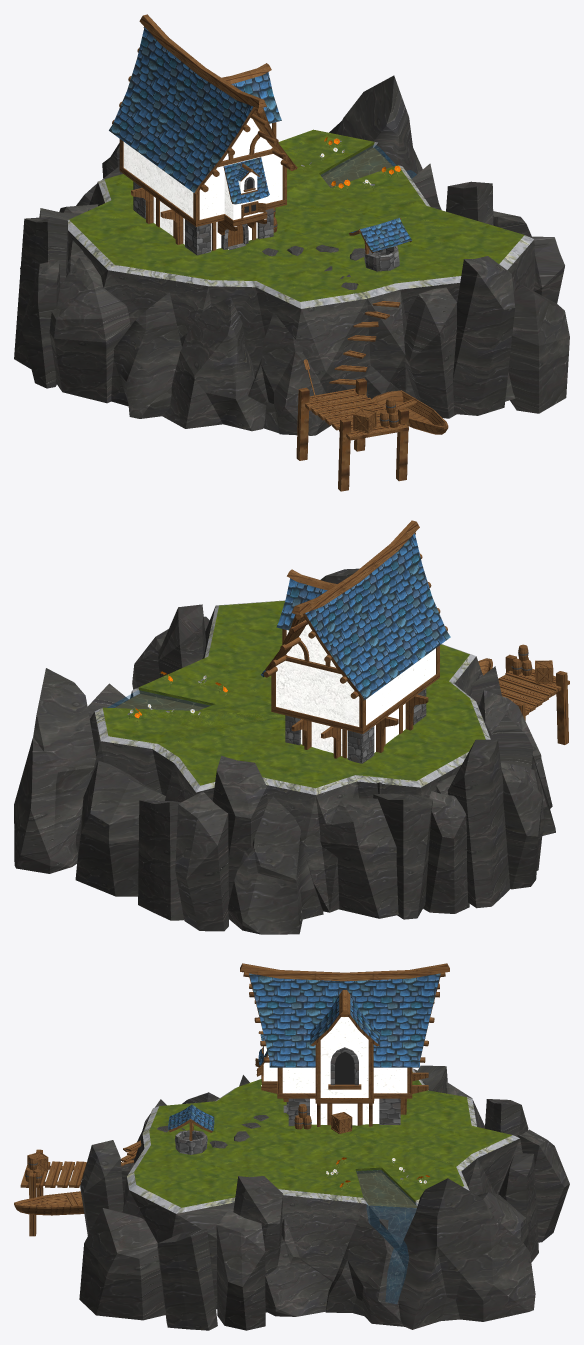
The model's file is island.glb.
3 views of the same model, one above another, from view 1: azimuth 30°, elevation 25°; view 2: azimuth 150°, elevation 25°; view 3: azimuth 270°, elevation 25° (orthographic). The views are drawn at different scales.
Parts seen in each view (by area): view 1: polySurface32, polySurface10, well, polySurface1, pCube22, pCube18, pCube16, pCube19, polySurface31; view 2: polySurface32, polySurface10, polySurface1, pCube18; view 3: polySurface32, polySurface10, polySurface1, well, pCube22.
Boxes of the visible parts, x1=… form: polySurface32: x1=14, y1=75, x2=569, y2=435; polySurface10: x1=109, y1=14, x2=297, y2=255; well: x1=349, y1=217, x2=412, y2=271; polySurface1: x1=321, y1=145, x2=416, y2=187; pCube22: x1=372, y1=390, x2=448, y2=434; pCube18: x1=338, y1=418, x2=351, y2=491; pCube16: x1=296, y1=387, x2=309, y2=460; pCube19: x1=396, y1=408, x2=408, y2=481; polySurface31: x1=338, y1=365, x2=407, y2=398; polySurface32: x1=14, y1=568, x2=555, y2=934; polySurface10: x1=260, y1=520, x2=450, y2=763; polySurface1: x1=107, y1=690, x2=209, y2=710; pCube18: x1=556, y1=671, x2=568, y2=744; polySurface32: x1=79, y1=1065, x2=569, y2=1330; polySurface10: x1=240, y1=963, x2=449, y2=1126; polySurface1: x1=356, y1=1170, x2=416, y2=1303; well: x1=168, y1=1104, x2=214, y2=1154; pCube22: x1=14, y1=1191, x2=84, y2=1215.
Bounding box in the file's own units: 20.13 × 12.37 × 23.84.
17 materials, 10 textured.
